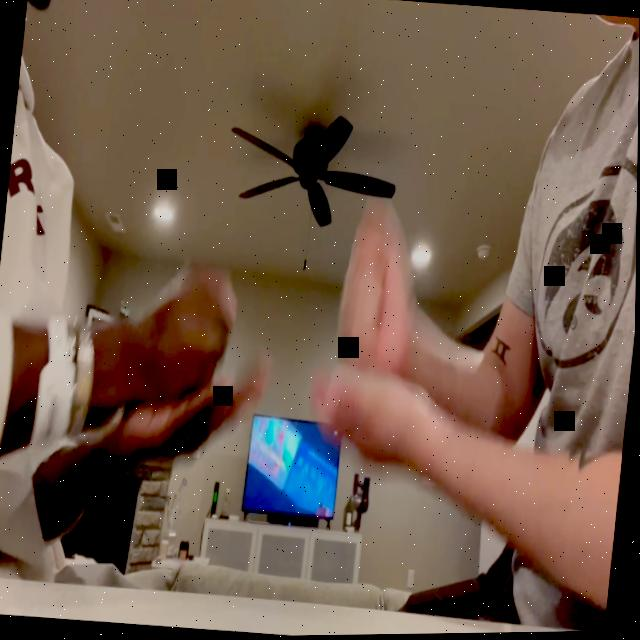Rock: (331, 196, 425, 386), (144, 257, 243, 414)
